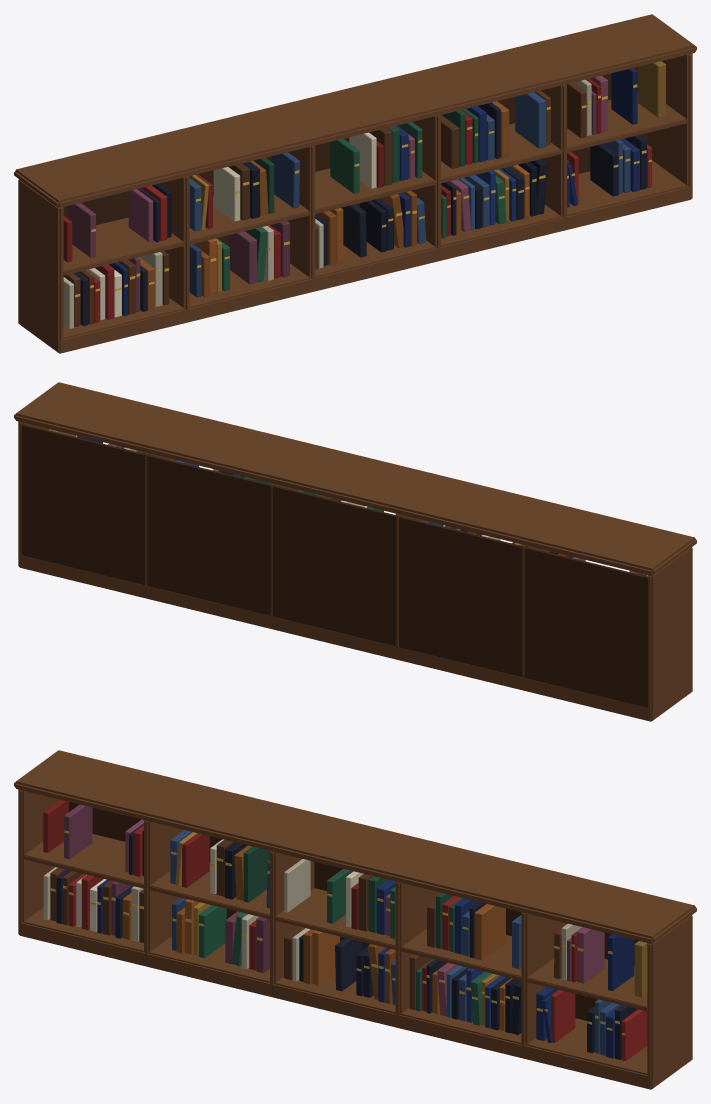
File: backshelf.glb
3 renders of one model, top to bottom at view 1: azimuth 30°, elevation 25°; view 2: azimuth 150°, elevation 25°; view 3: azimuth 330°, elevation 25°, orthographic.
Visible parts, largest first — view 1: backshelf_wood, backshelf_books, backshelf_wood_dark, backshelf_gold_leaf; view 2: backshelf_wood_dark, backshelf_wood, backshelf_books; view 3: backshelf_wood, backshelf_books, backshelf_wood_dark, backshelf_gold_leaf.
Boxes of the visible parts, box(x1,y1,x2,y2) form: backshelf_wood: box(14, 14, 696, 353); backshelf_books: box(63, 61, 665, 328); backshelf_wood_dark: box(63, 67, 647, 246); backshelf_gold_leaf: box(75, 84, 651, 297); backshelf_wood_dark: box(21, 424, 647, 707); backshelf_wood: box(14, 382, 696, 721); backshelf_books: box(48, 429, 646, 576); backshelf_wood: box(14, 750, 696, 1089); backshelf_books: box(43, 800, 647, 1061); backshelf_wood_dark: box(69, 802, 638, 1020); backshelf_gold_leaf: box(50, 830, 625, 1035).
Size of the model in its own units: 4.44 by 1.02 by 0.54.
